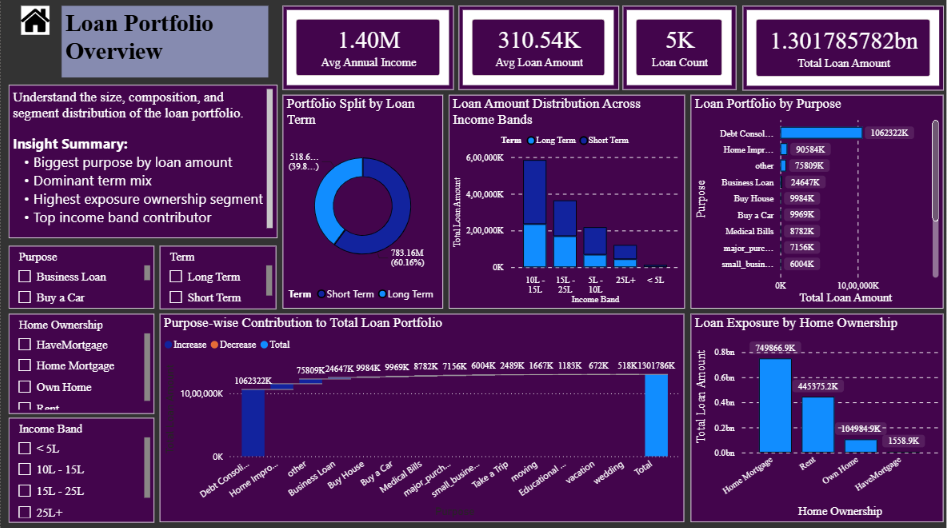

What the dashboard file says about the page in this screenshot:
{"tool":"powerbi","page":{"name":"Loan Portfolio","canvas":[1280,720],"ordinal":1},"visuals":[{"type":"cardVisual","title":"Total Loan Amount","fields":{"Data":["credit_test.Avg Annual Income"]},"box":[381.2,7.8,231.2,113.9],"z":0},{"type":"cardVisual","title":"Avg Loan Amount","fields":{"Data":["credit_test.Loan Count"]},"box":[841,7.8,153.5,113.9],"z":1000},{"type":"cardVisual","title":"Avg Annual Income","fields":{"Data":["credit_test.Total Loan Amount"]},"box":[1002.3,7.6,272.1,114.1],"z":2000},{"type":"cardVisual","title":"Loan Count","fields":{"Data":["credit_test.Avg Loan Amount"]},"box":[618.4,7.8,216.5,113.9],"z":3000},{"type":"slicer","fields":{"Values":["credit_test.Term"]},"box":[214.8,332.1,157.8,85.4],"z":4000},{"type":"slicer","fields":{"Values":["credit_test.Purpose"]},"box":[10.4,332.1,196.7,84.5],"z":5000},{"type":"slicer","fields":{"Values":["credit_test.Home Ownership"]},"box":[10.4,424.4,196.7,135.4],"z":6000},{"type":"slicer","fields":{"Values":["credit_test.Income Band"]},"box":[10.4,565,196.7,141.5],"z":7000},{"type":"clusteredColumnChart","title":"Loan Exposure by Home Ownership","fields":{"Category":["credit_test.Home Ownership"],"Y":["credit_test.Total Loan Amount"]},"box":[933,424.2,341.4,281.4],"z":8000},{"type":"clusteredBarChart","title":"Loan Portfolio by Purpose","fields":{"Category":["credit_test.Purpose"],"Y":["credit_test.Total Loan Amount"]},"box":[933,128.5,341.4,289],"z":9000},{"type":"donutChart","title":"Portfolio Split by Loan Term","fields":{"Category":["credit_test.Term"],"Y":["credit_test.Total Loan Amount"]},"box":[380.8,128.7,217.1,288.9],"z":10000},{"type":"columnChart","title":"Loan Amount Distribution Across Income Bands","fields":{"Y":["credit_test.Total Loan Amount"],"Category":["credit_test.Income Band"],"Series":["credit_test.Term"]},"box":[605.5,127.7,318.3,288.9],"z":11000},{"type":"waterfallChart","title":"Purpose-wise Contribution to Total Loan Portfolio","fields":{"Category":["credit_test.Purpose"],"Y":["credit_test.Total Loan Amount"]},"box":[214.6,424.2,709,281.4],"z":12000},{"type":"textbox","box":[82,7.6,278.9,97.2],"z":13000},{"type":"textbox","box":[10.1,114.9,363.4,207],"z":14000},{"type":"image","box":[10.1,7.6,71.8,38.9],"z":16000}]}

Visuals, with their boxes in screenshot pixels (x1, y1, x2, y2), scaled from the page's 1280x720 canvas onto the 947x528 screenshot:
"Total Loan Amount" cardVisual: select_region(282, 6, 453, 89)
"Avg Loan Amount" cardVisual: select_region(622, 6, 736, 89)
"Avg Annual Income" cardVisual: select_region(742, 6, 943, 89)
"Loan Count" cardVisual: select_region(458, 6, 618, 89)
slicer - credit_test.Term: select_region(159, 244, 276, 306)
slicer - credit_test.Purpose: select_region(8, 244, 153, 306)
slicer - credit_test.Home Ownership: select_region(8, 311, 153, 411)
slicer - credit_test.Income Band: select_region(8, 414, 153, 518)
"Loan Exposure by Home Ownership" clusteredColumnChart: select_region(690, 311, 943, 517)
"Loan Portfolio by Purpose" clusteredBarChart: select_region(690, 94, 943, 306)
"Portfolio Split by Loan Term" donutChart: select_region(282, 94, 442, 306)
"Loan Amount Distribution Across Income Bands" columnChart: select_region(448, 94, 683, 306)
"Purpose-wise Contribution to Total Loan Portfolio" waterfallChart: select_region(159, 311, 683, 517)
textbox: select_region(61, 6, 267, 77)
textbox: select_region(7, 84, 276, 236)
image: select_region(7, 6, 61, 34)
